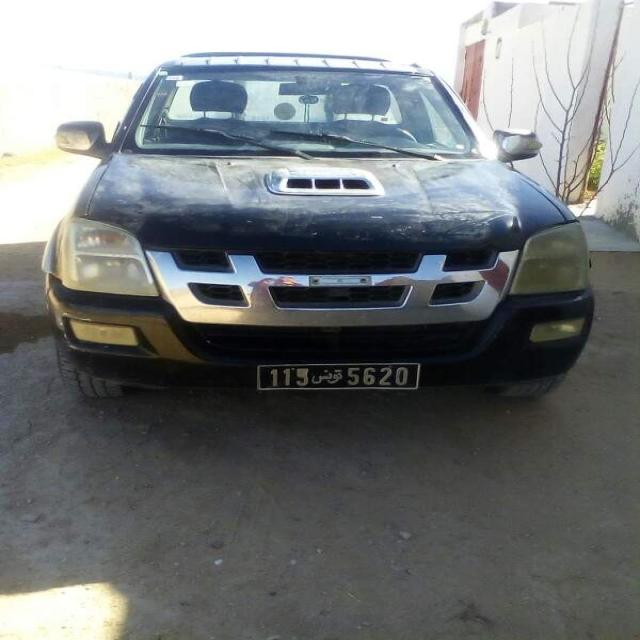LP: (254, 361, 420, 391)
